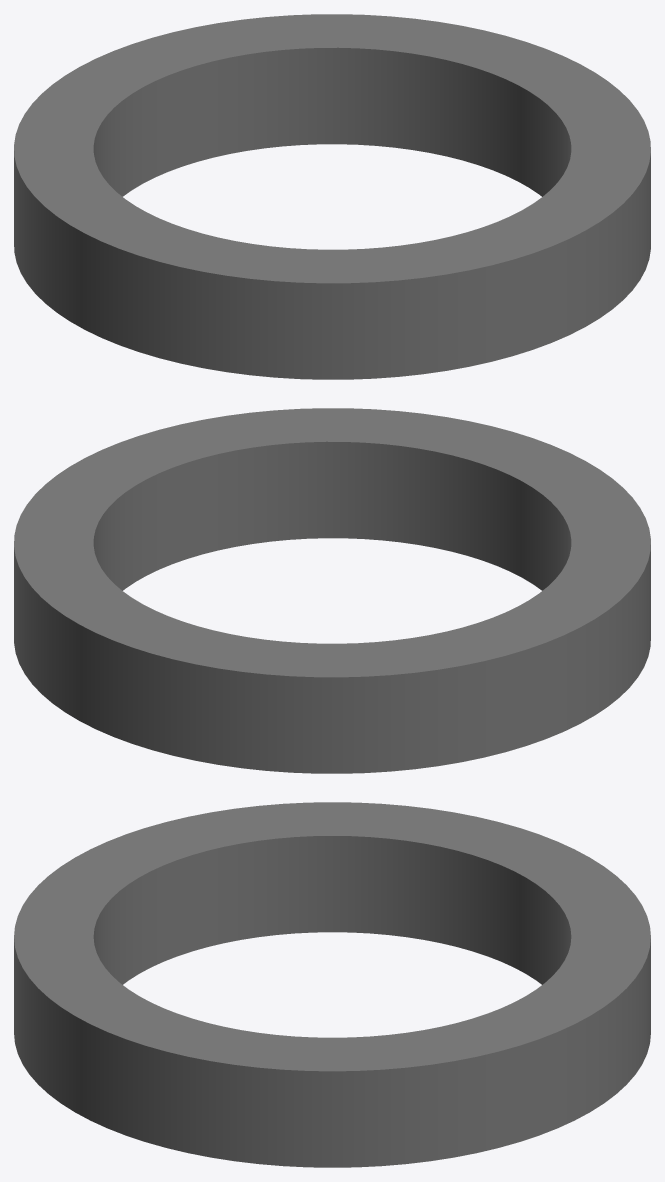
The model's file is Tower_Topissssh.glb.
3 views of the same model, one above another, from view 1: azimuth 30°, elevation 25°; view 2: azimuth 150°, elevation 25°; view 3: azimuth 270°, elevation 25° (orthographic).
Visible parts, largest first — view 1: mesh_id34; view 2: mesh_id34; view 3: mesh_id34.
Part boxes in pixels (<box>): mesh_id34: <box>14,14,650,379</box>; mesh_id34: <box>14,408,650,773</box>; mesh_id34: <box>14,802,650,1167</box>.
Bounding box in the file's own units: 0.4969 × 0.083 × 0.4969.
Materials: 1 (1 with a texture image).
